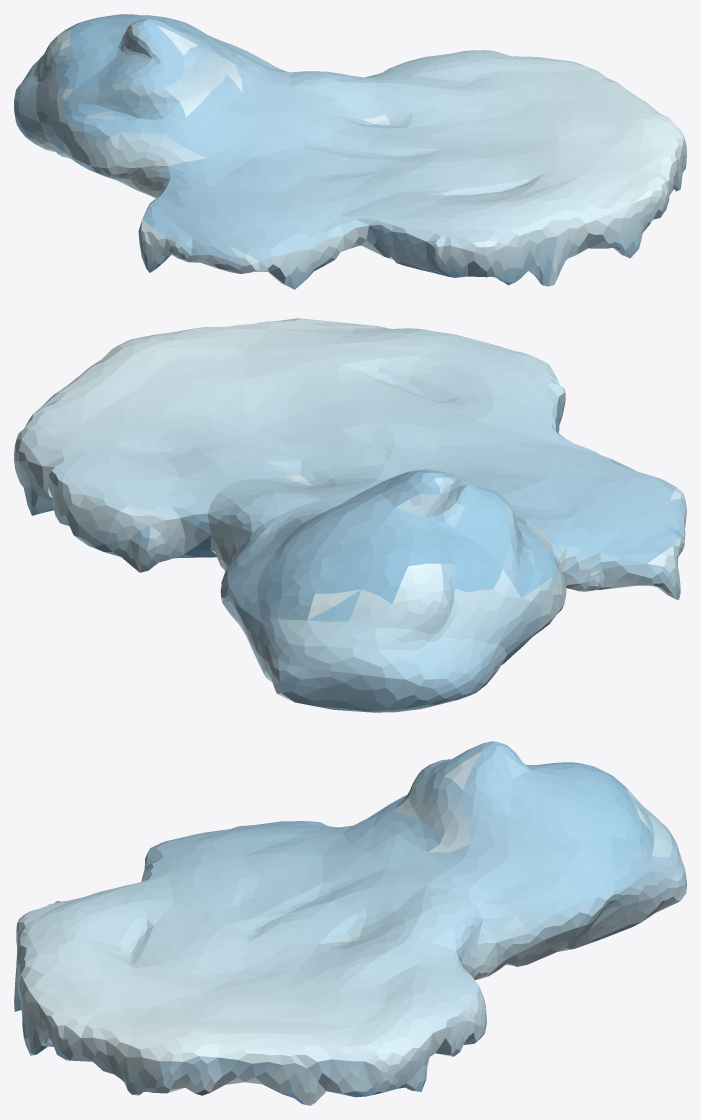
File: SnowMid-1-col.glb
3 views of the same model, one above another, from view 1: azimuth 30°, elevation 25°; view 2: azimuth 150°, elevation 25°; view 3: azimuth 270°, elevation 25° (orthographic). The views are drawn at different scales.
Parts seen in each view (by area): view 1: Cube.109; view 2: Cube.109; view 3: Cube.109.
Boxes of the visible parts, box(x1,y1,x2,y2) form: Cube.109: box(14, 14, 686, 289); Cube.109: box(14, 318, 686, 712); Cube.109: box(14, 741, 686, 1105).
Bounding box in the file's own units: 7.46 × 2.22 × 8.03.
Materials: 1 (1 with a texture image).
